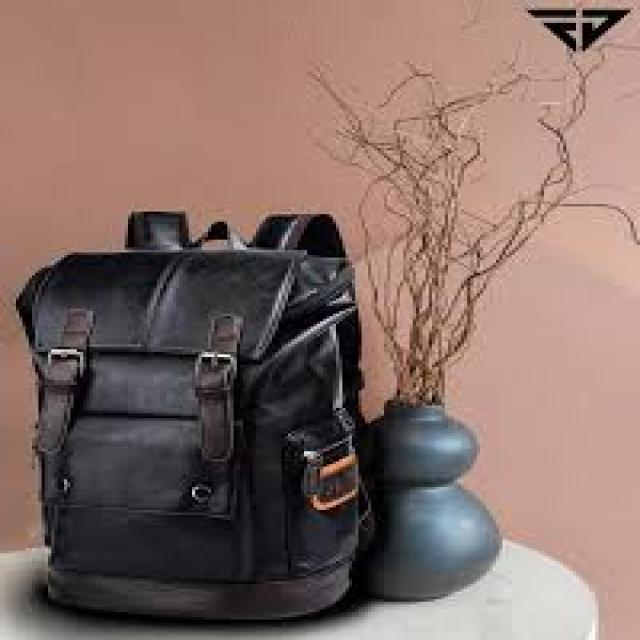backpack: (14, 210, 375, 623)
